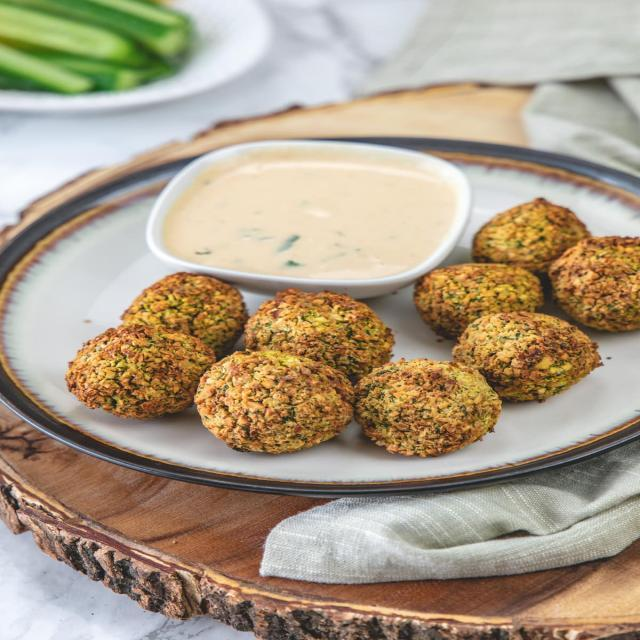flafel: (351, 358, 501, 462), (447, 313, 607, 402), (68, 324, 204, 426), (557, 235, 640, 333), (474, 195, 582, 269)
